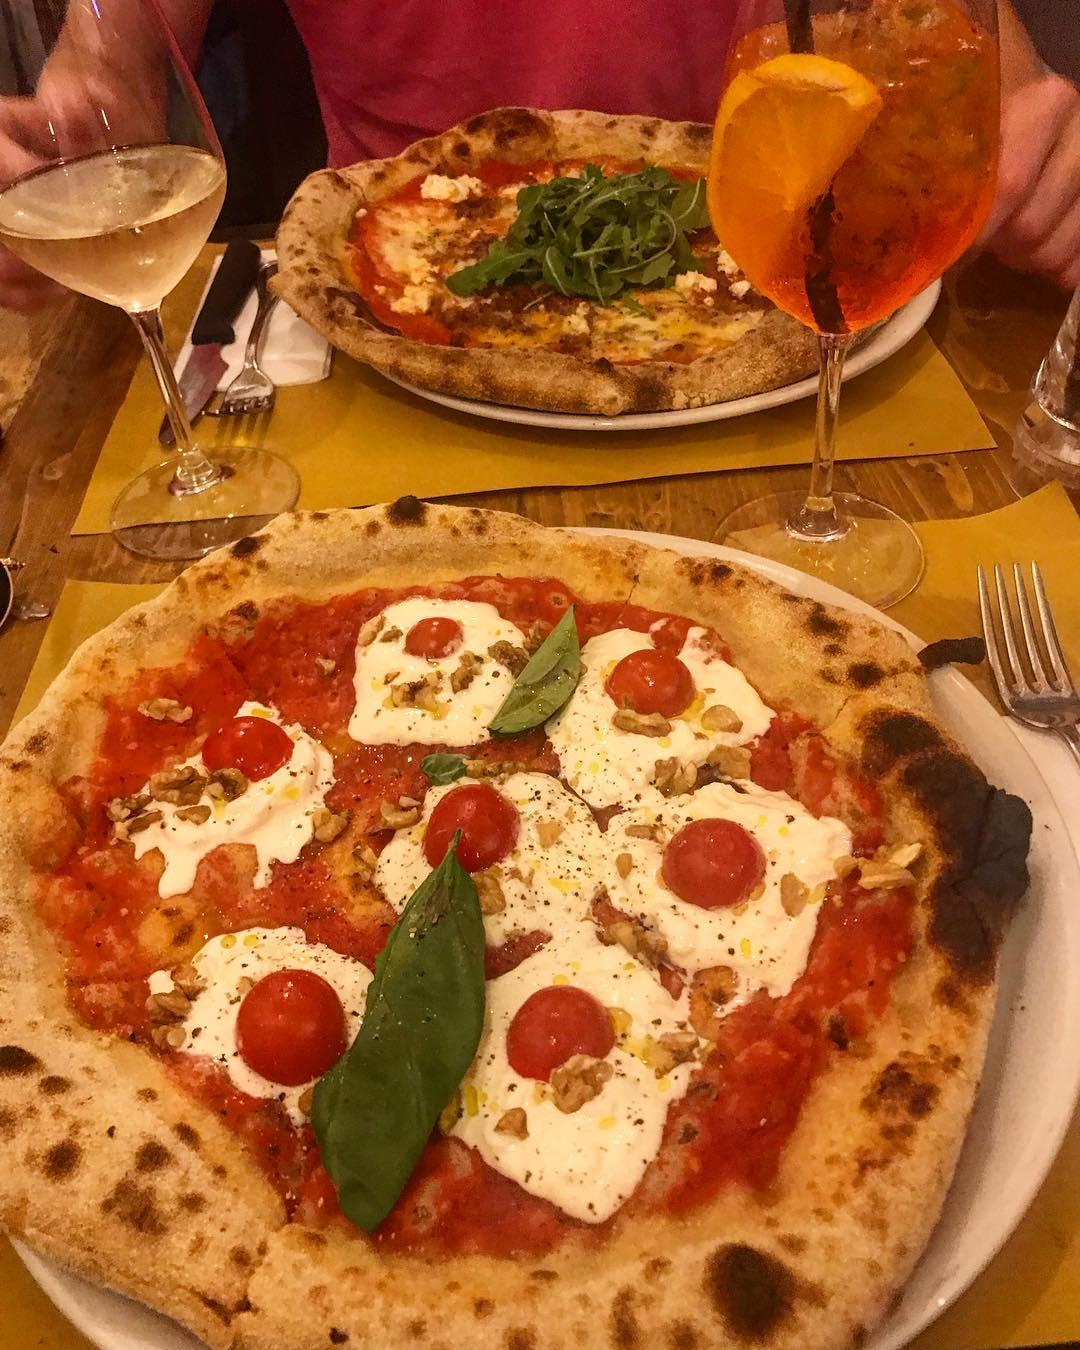Arugula: (522, 183, 684, 277)
Basil: (305, 847, 486, 1235), (484, 602, 583, 741), (414, 746, 465, 785)
Cheese: (495, 1089, 646, 1166), (532, 787, 588, 910), (375, 671, 476, 728), (188, 782, 298, 834), (672, 915, 790, 953), (773, 812, 821, 898), (609, 834, 649, 895)
Pizza: (0, 506, 1040, 1350), (277, 108, 706, 413)
Tomatoes: (234, 966, 353, 1084), (515, 982, 618, 1081), (661, 816, 766, 904), (425, 786, 522, 871), (609, 647, 700, 723), (199, 719, 298, 777), (406, 617, 464, 659)
